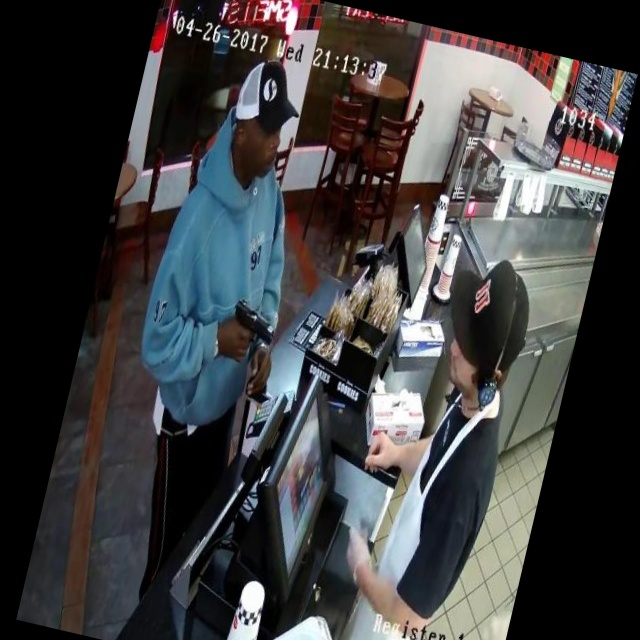gun: (211, 274, 291, 375)
